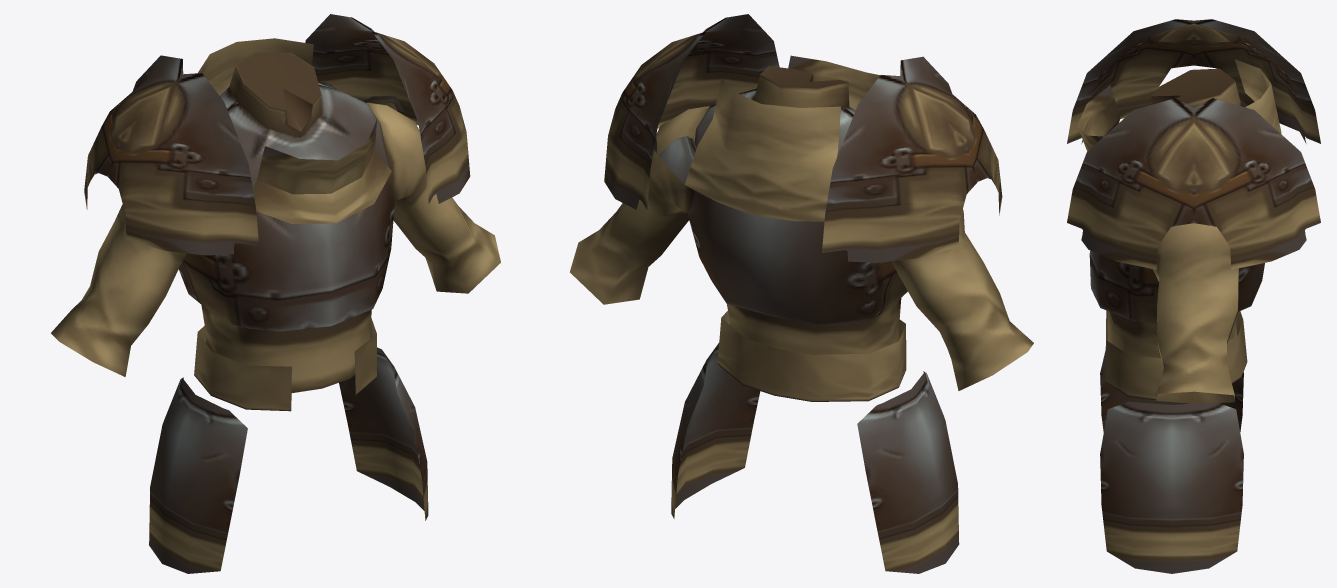
File: hum_heavy_b_7018f9f5.glb
3 views of the same model, side by side, from view 1: azimuth 30°, elevation 25°; view 2: azimuth 150°, elevation 25°; view 3: azimuth 270°, elevation 25° (orthographic). The views are drawn at different scales.
Size of the model in its own units: 1.29 by 1.3 by 0.6579.
Materials: 1 (1 with a texture image).
